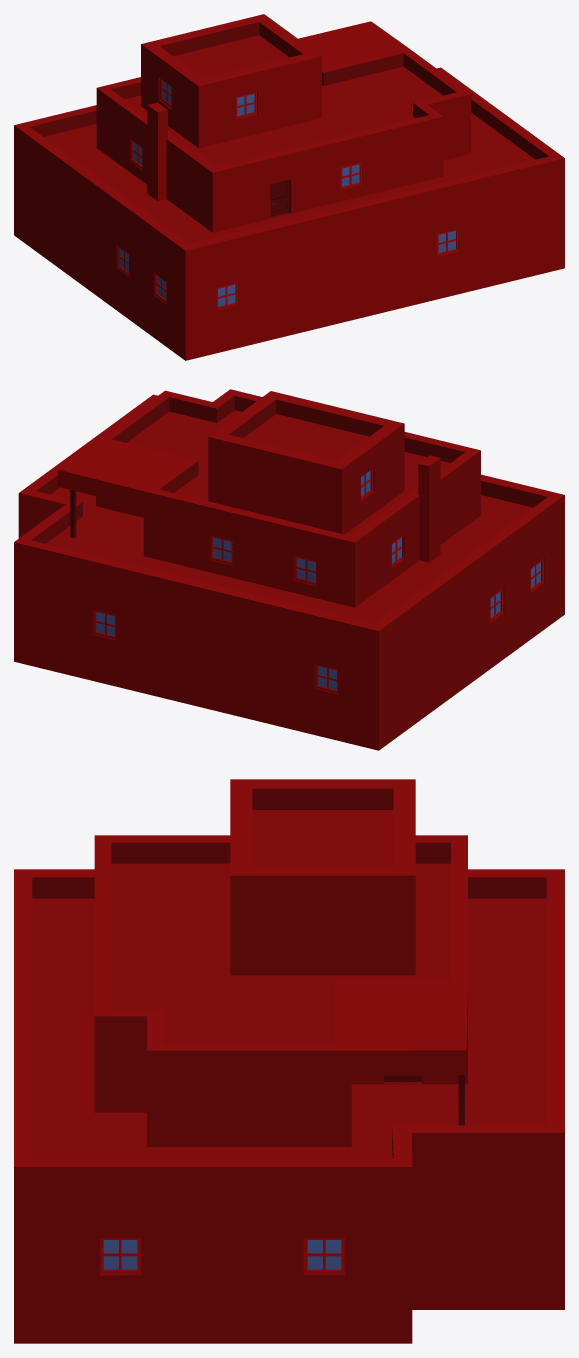
The model's file is buildings-residential-largeadobehouse_v2.fbx.
3 renders of one model, top to bottom at view 1: azimuth 30°, elevation 25°; view 2: azimuth 150°, elevation 25°; view 3: azimuth 270°, elevation 25°, orthographic. The views are drawn at different scales.
Visible parts, largest first — view 1: LargeAdobeHouse_v2_base, LargeAdobeHouse_v2_windowRefl; view 2: LargeAdobeHouse_v2_base, LargeAdobeHouse_v2_windowRefl; view 3: LargeAdobeHouse_v2_base, LargeAdobeHouse_v2_windowRefl.
Boxes of the visible parts, x1,y1,x2,y2 form: LargeAdobeHouse_v2_base: (14,14,564,360); LargeAdobeHouse_v2_windowRefl: (120,80,455,306); LargeAdobeHouse_v2_base: (14,389,564,750); LargeAdobeHouse_v2_windowRefl: (96,470,540,690); LargeAdobeHouse_v2_base: (14,779,564,1343); LargeAdobeHouse_v2_windowRefl: (103,1240,341,1269).
Size of the model in its own units: 33.46 by 17.33 by 26.21.
